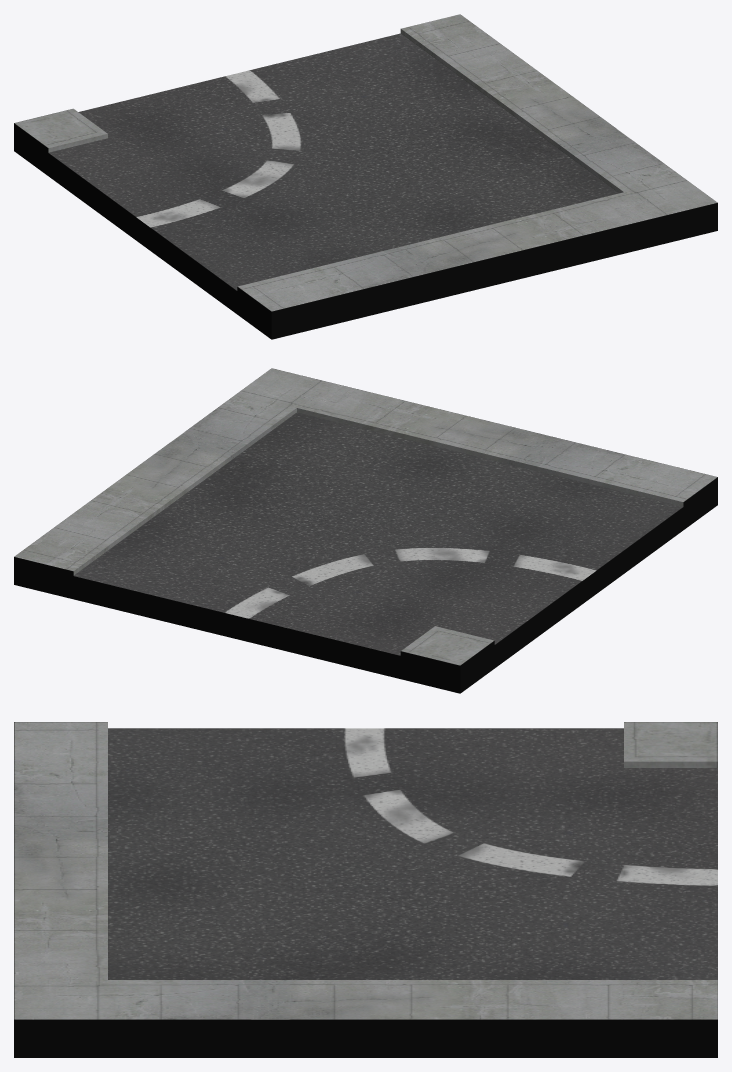
File: street_cornerOBJ.fbx
3 views of the same model, one above another, from view 1: azimuth 30°, elevation 25°; view 2: azimuth 150°, elevation 25°; view 3: azimuth 270°, elevation 25° (orthographic). The views are drawn at different scales.
Parts seen in each view (by area): view 1: corner; view 2: corner; view 3: corner.
Boxes of the visible parts, bbox=[...] form: corner: bbox=[14, 14, 717, 339]; corner: bbox=[14, 368, 717, 693]; corner: bbox=[14, 722, 717, 1057].
Bounding box in the file's own units: 10 × 0.6 × 10.
